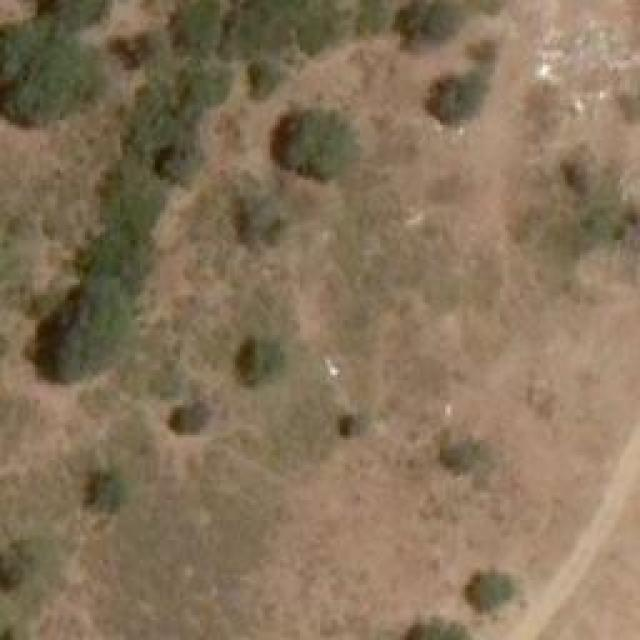Tree: (38, 278, 131, 391), (0, 20, 90, 118), (273, 105, 366, 185), (398, 0, 468, 55), (165, 0, 225, 60), (425, 68, 483, 128), (230, 190, 288, 245), (463, 567, 518, 615), (237, 335, 285, 390), (108, 27, 161, 74), (440, 435, 493, 478), (85, 470, 130, 518), (160, 143, 208, 186), (245, 60, 290, 105), (350, 0, 395, 42), (403, 617, 470, 640), (168, 403, 208, 438), (333, 415, 368, 440), (0, 553, 20, 586)
